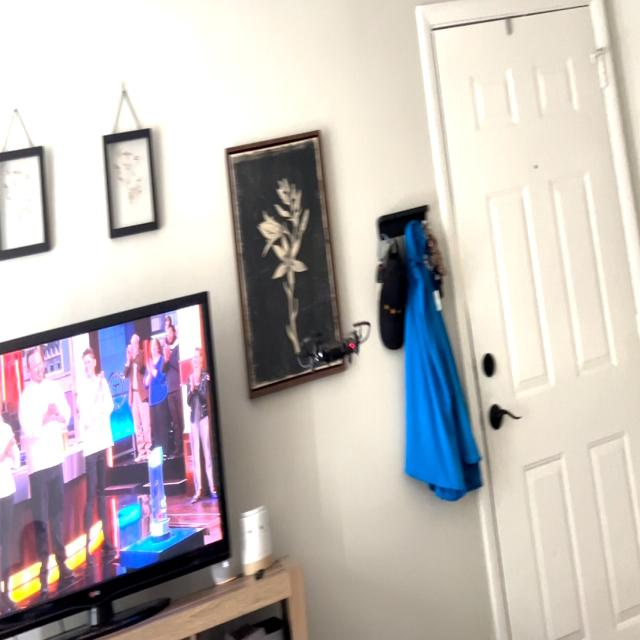drone: (284, 310, 386, 391)
